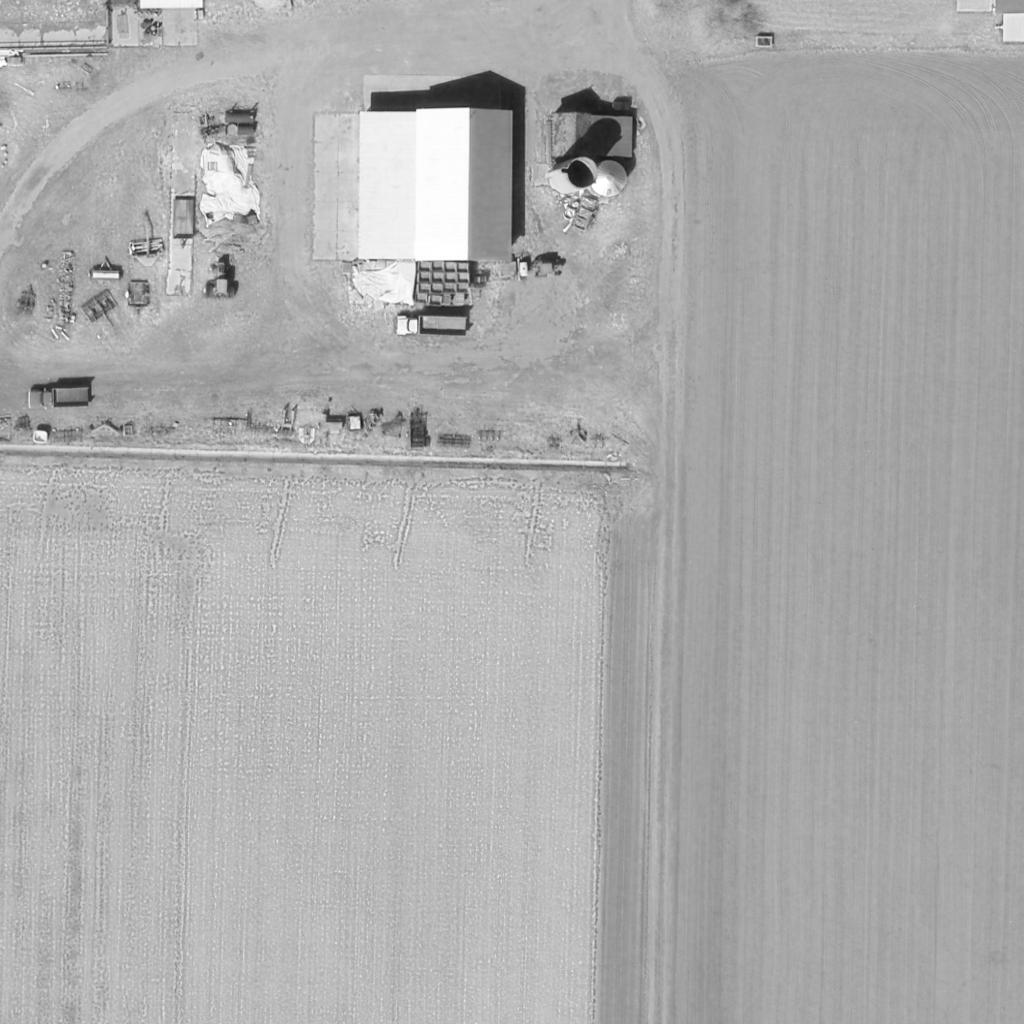vehicle: (396, 313, 470, 339), (26, 386, 92, 412), (204, 261, 238, 301), (532, 253, 566, 281)
